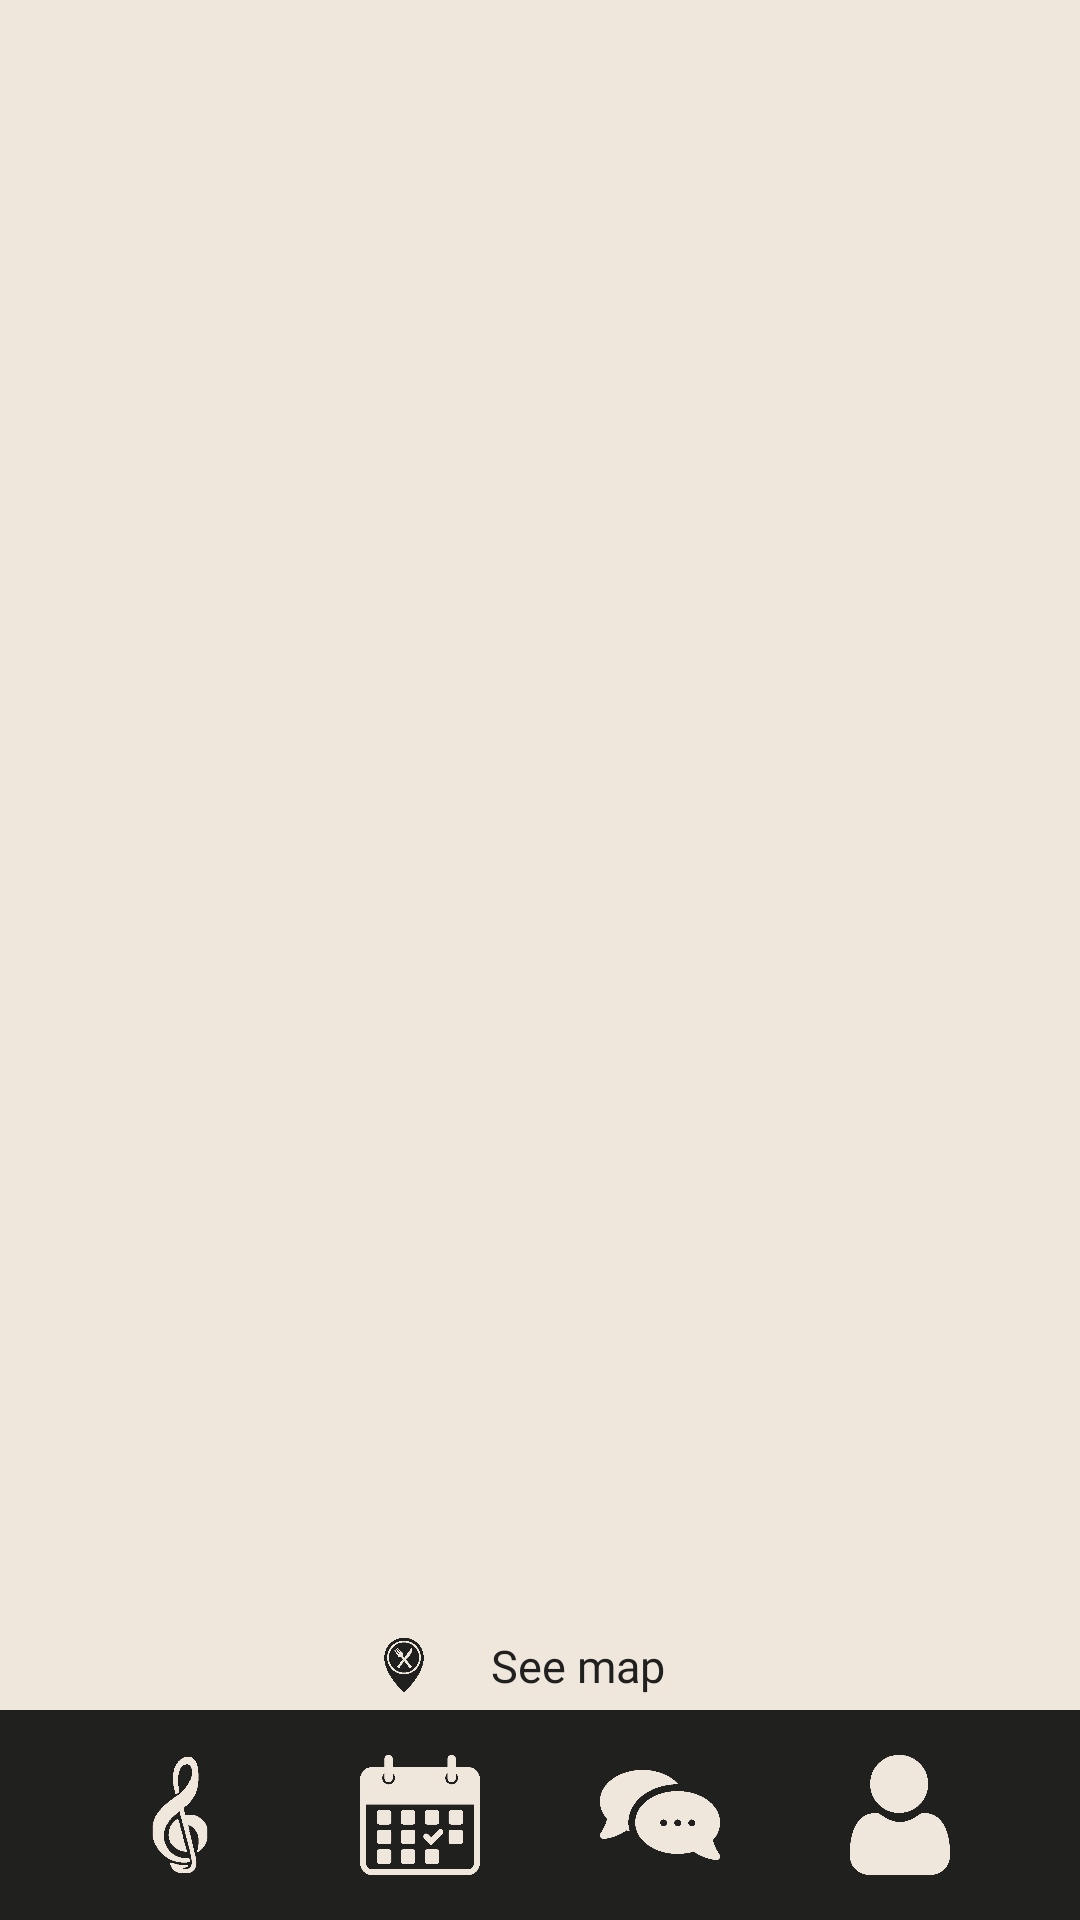

Locate icon controls on the screen. Image size 1080px×1920px, boxes as (x1, y1, x2, y2).
chat: (600, 1770, 720, 1860)
musician: (152, 1757, 208, 1873)
restaurant waypoint: (384, 1638, 424, 1692)
user: (850, 1755, 950, 1875)
